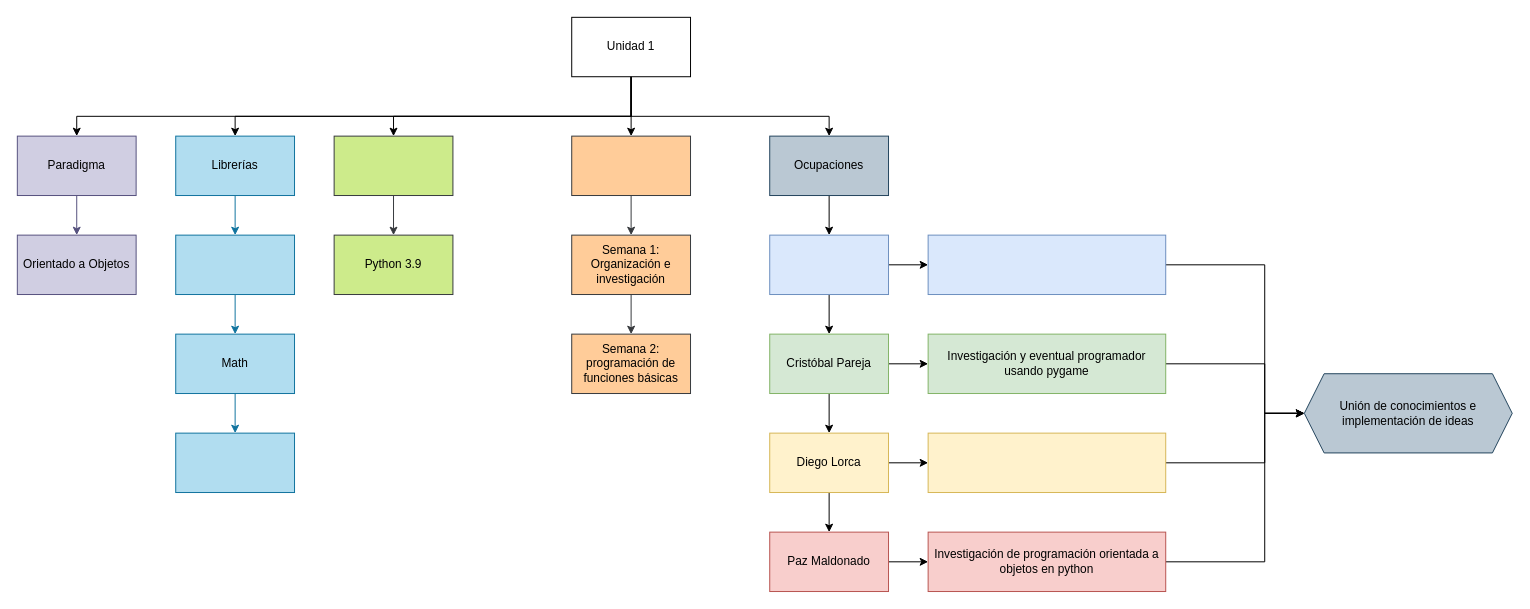
The diagram is 1530 pixels wide and 609 high, and some of its shapes have lost their labels. Each missing label, with the centre of its shape:
"Creación de una interfaz grafica para el menú del juego" goes at pixel 1046 264.
"Encargado de aplicar la física y matemáticas en el programa" goes at pixel 1046 462.
"Lenguaje" goes at pixel 393 165.
"María Paz" goes at pixel 829 264.
"Planificación" goes at pixel 631 165.
"Pygame" goes at pixel 235 264.
"Time" goes at pixel 235 462.
